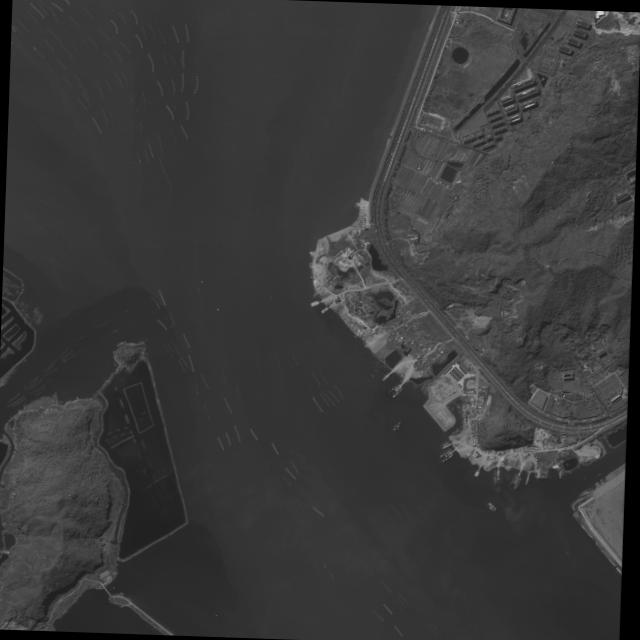ship: (390, 385, 403, 397), (484, 498, 496, 510), (387, 381, 398, 393), (438, 447, 451, 457), (512, 475, 520, 489), (509, 470, 517, 484), (441, 452, 452, 461), (484, 502, 494, 511), (512, 471, 519, 483), (438, 439, 449, 446), (440, 442, 450, 448), (392, 420, 400, 427), (391, 424, 399, 430), (492, 470, 495, 485), (523, 475, 528, 484), (474, 469, 479, 475), (496, 469, 498, 479), (473, 469, 477, 474), (563, 551, 567, 553), (597, 472, 600, 474), (573, 565, 575, 567)
